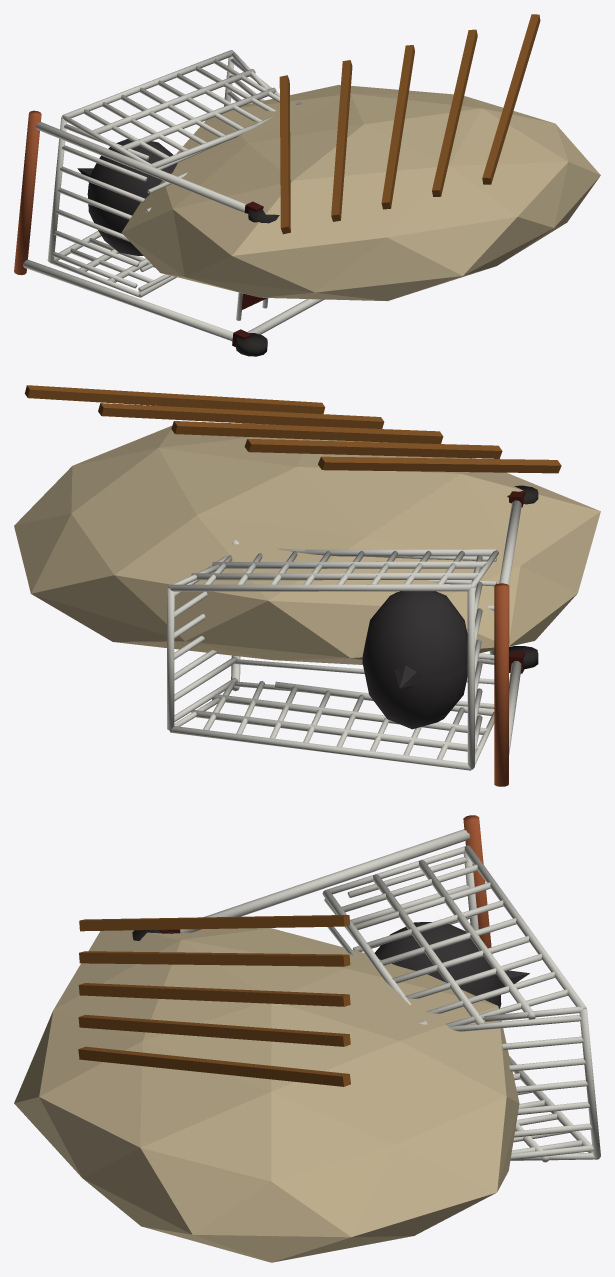
The model's file is wash_cart.glb.
3 views of the same model, one above another, from view 1: azimuth 30°, elevation 25°; view 2: azimuth 150°, elevation 25°; view 3: azimuth 270°, elevation 25° (orthographic). The views are drawn at different scales.
Parts seen in each view (by area): view 1: wash_cart; view 2: wash_cart; view 3: wash_cart.
Boxes of the visible parts, bbox=[...] form: wash_cart: bbox=[14, 14, 600, 356]; wash_cart: bbox=[14, 385, 600, 786]; wash_cart: bbox=[14, 815, 600, 1262].
Size of the model in its own units: 1.89 by 0.7669 by 1.55.
